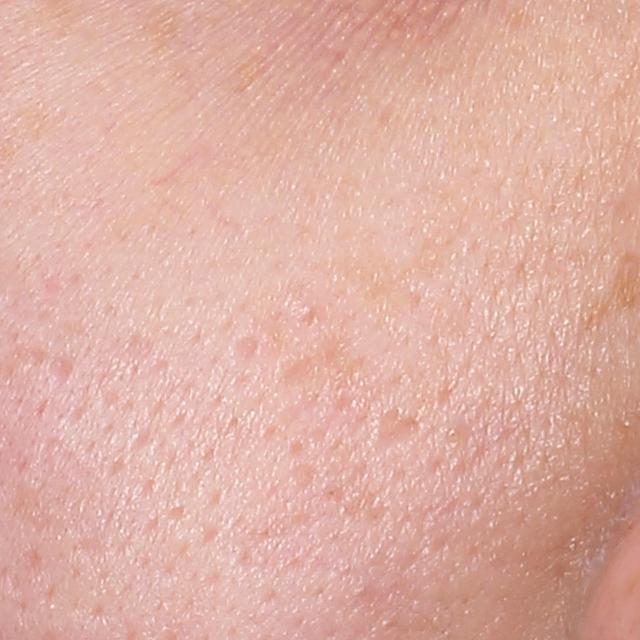atrophic_scar: (378, 408, 418, 452), (279, 361, 317, 389)
